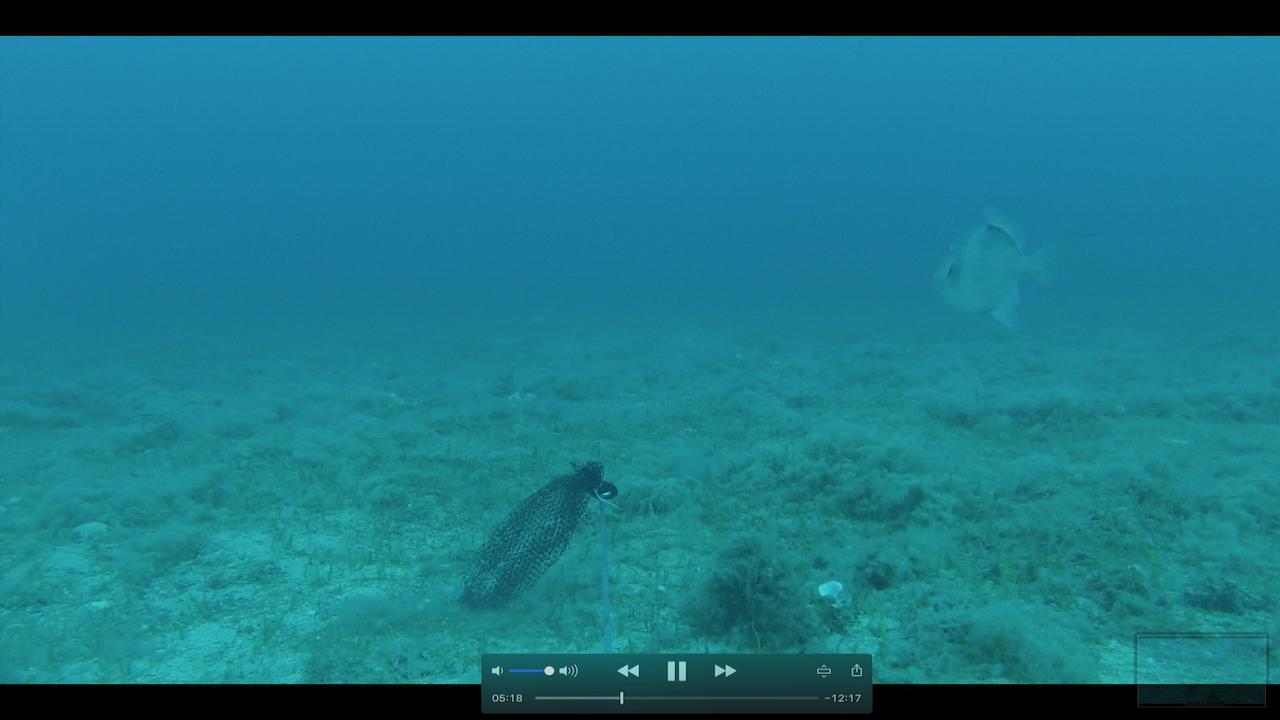balistes: (928, 200, 1103, 346)
